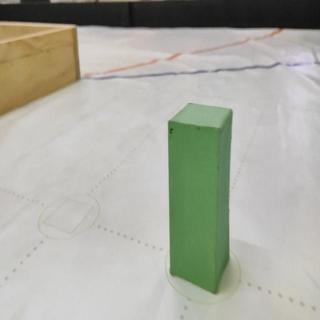greenbox: (167, 101, 235, 295)
